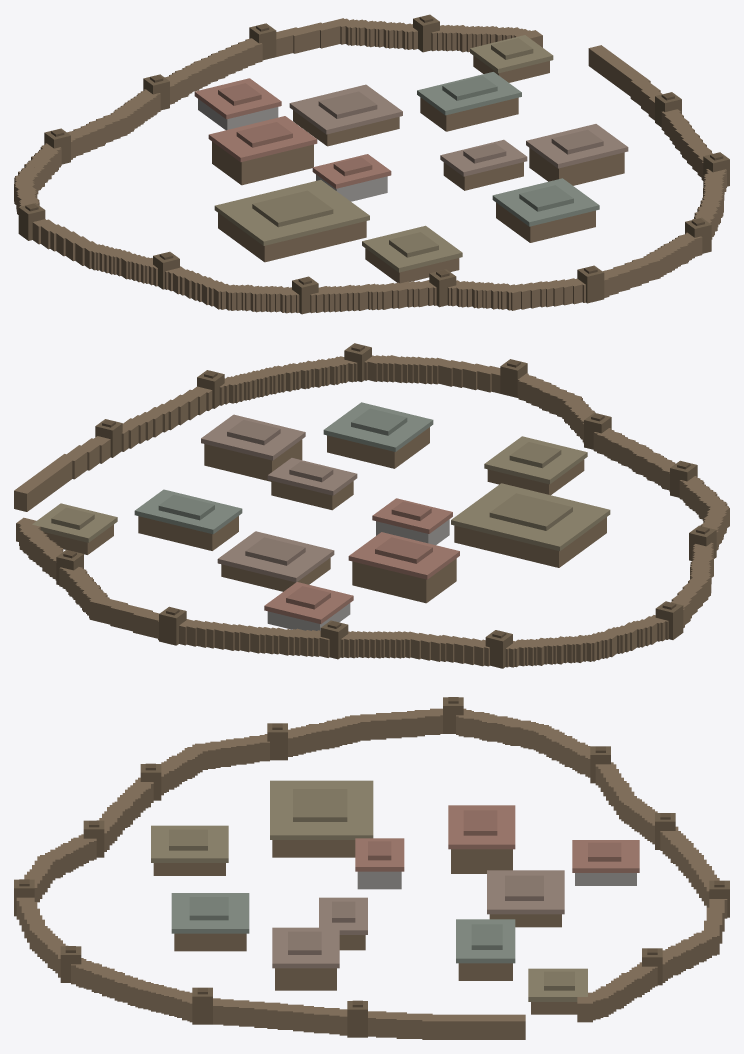
File: ciudad_campamento_barbaros_grande_1816_891_01.glb
The picture shows the model from 3 angles, top to bottom: view 1: azimuth 30°, elevation 25°; view 2: azimuth 150°, elevation 25°; view 3: azimuth 270°, elevation 25°; orthographic projection. The views are drawn at different scales.
Visible parts, largest first — view 1: ciudad_campamento_barbaros_grande_1816_891; view 2: ciudad_campamento_barbaros_grande_1816_891; view 3: ciudad_campamento_barbaros_grande_1816_891.
Boxes of the visible parts, x1=… form: ciudad_campamento_barbaros_grande_1816_891: x1=14, y1=14, x2=729, y2=314; ciudad_campamento_barbaros_grande_1816_891: x1=14, y1=343, x2=729, y2=668; ciudad_campamento_barbaros_grande_1816_891: x1=14, y1=697, x2=729, y2=1039.
Bounding box in the file's own units: 72 × 3.75 × 69.25.
